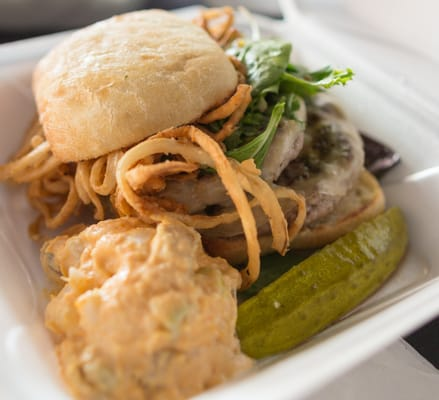soup: (6, 13, 395, 389)
